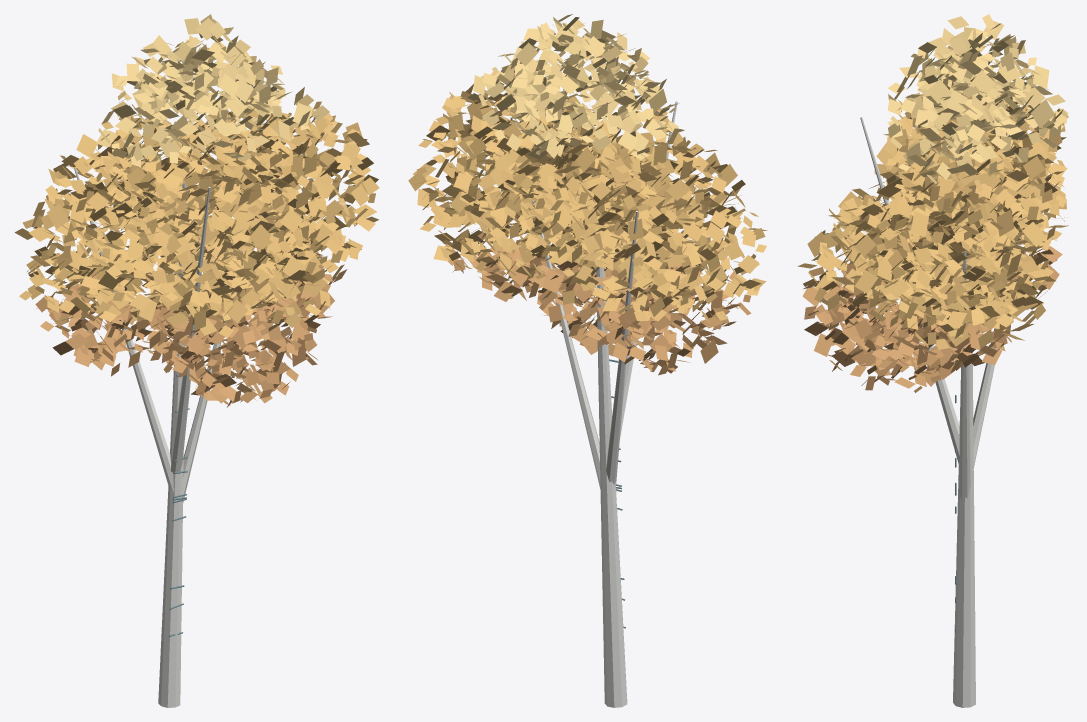
File: BirchGold.fbx
3 renders of one model, left to right at view 1: azimuth 30°, elevation 25°; view 2: azimuth 150°, elevation 25°; view 3: azimuth 270°, elevation 25°, orthographic. The views are drawn at different scales.
Visible parts, largest first — view 1: Rigid.002; view 2: Rigid.002; view 3: Rigid.002.
Boxes of the visible parts, bbox=[...] form: Rigid.002: bbox=[14, 14, 379, 707]; Rigid.002: bbox=[408, 14, 767, 707]; Rigid.002: bbox=[797, 14, 1068, 707].
Bounding box in the file's own units: 5.5 × 10.3 × 3.7.
